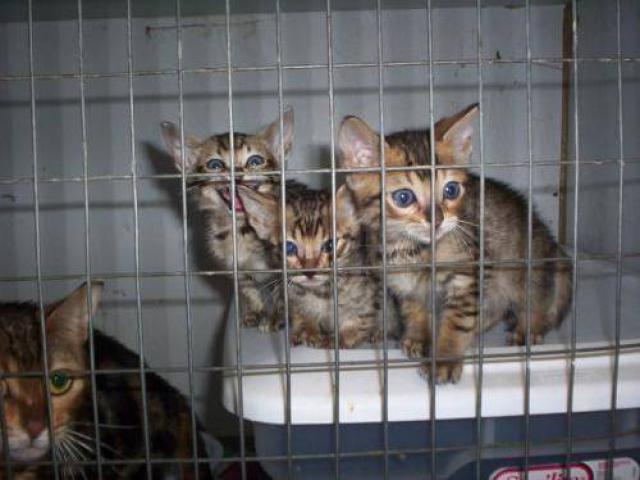cat: (159, 117, 603, 379)
